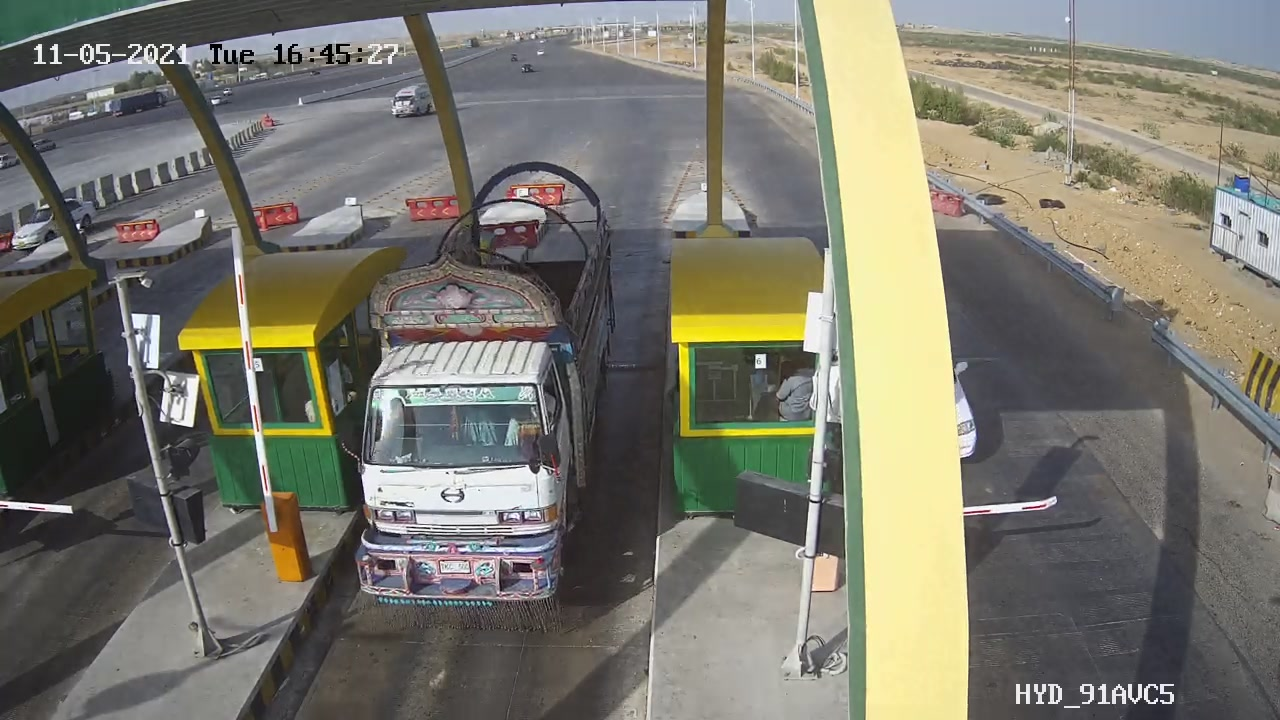F5: (326, 146, 644, 662)
